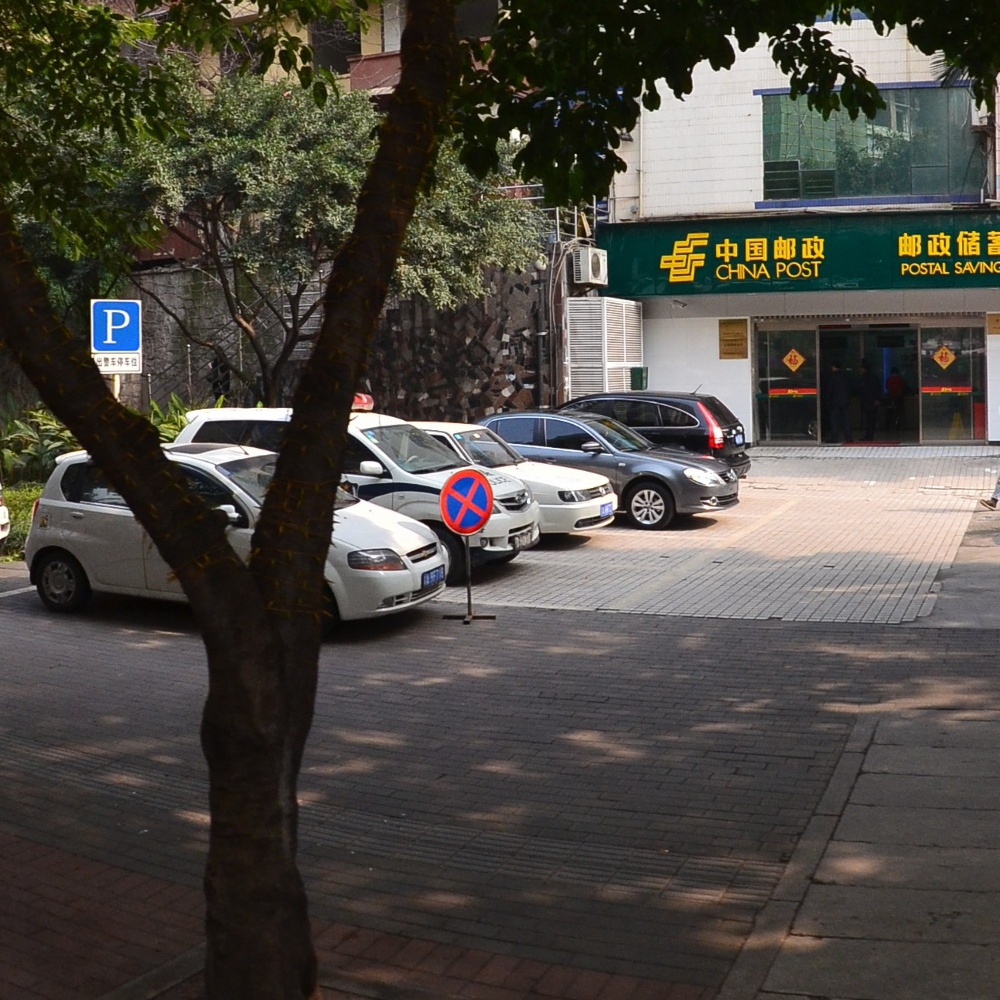traffic_sign: (437, 467, 492, 534), (543, 486, 568, 513), (521, 555, 547, 577)
